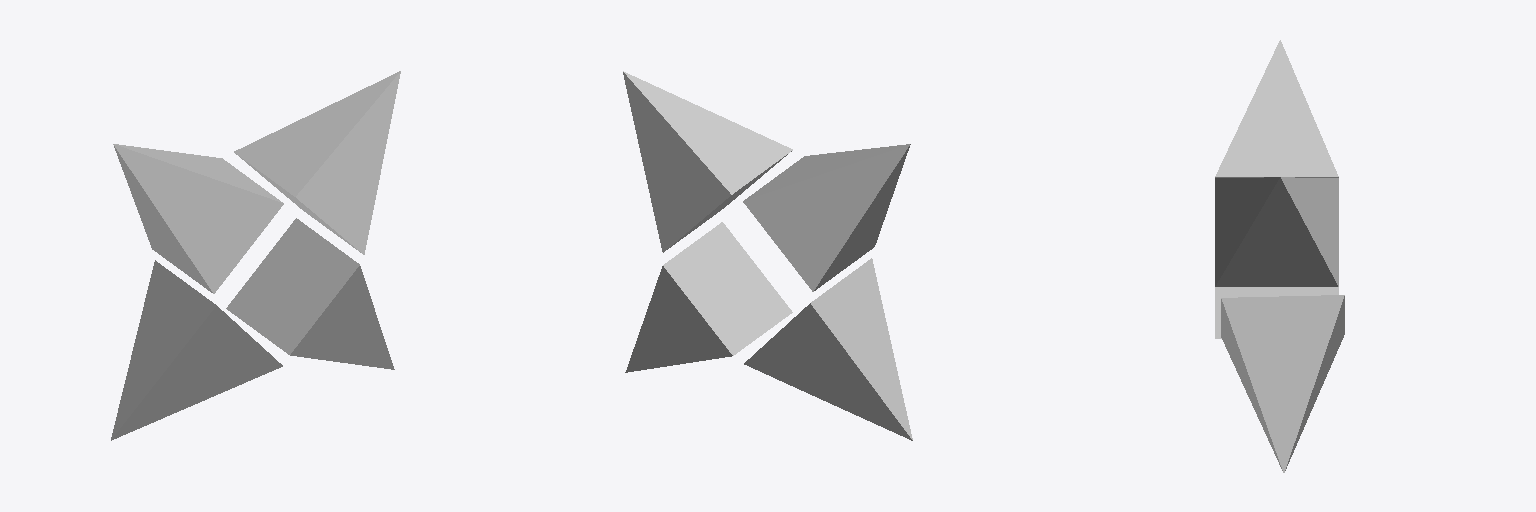
File: spikePrick.obj
3 views of the same model, side by side, from view 1: azimuth 30°, elevation 25°; view 2: azimuth 150°, elevation 25°; view 3: azimuth 270°, elevation 25° (orthographic).
Visible parts, largest first — view 1: 球.004; view 2: 球.004; view 3: 球.004.
Boxes of the visible parts, x1=… form: 球.004: x1=111, y1=71, x2=400, y2=440; 球.004: x1=623, y1=71, x2=912, y2=440; 球.004: x1=1215, y1=40, x2=1344, y2=472.
Size of the model in its own units: 2.82 by 2.78 by 1.09.